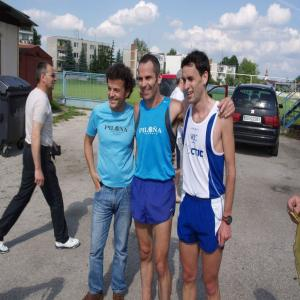Vehicle-registration-plate: (244, 116, 263, 124)
